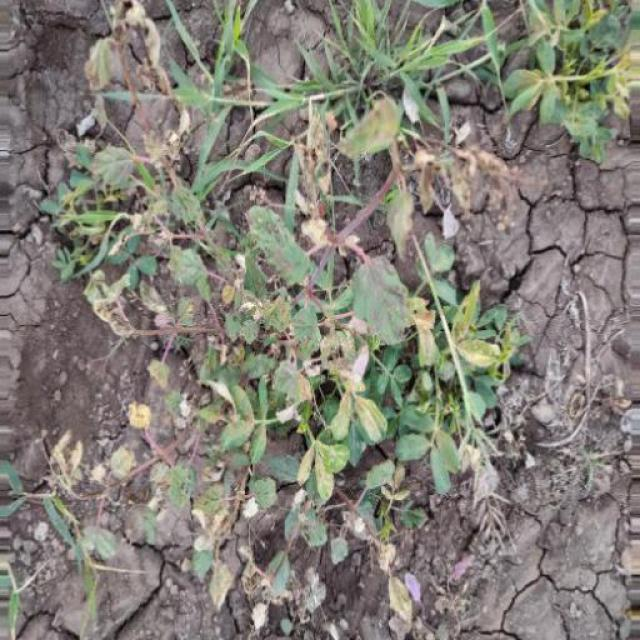weed: (71, 59, 528, 555)
